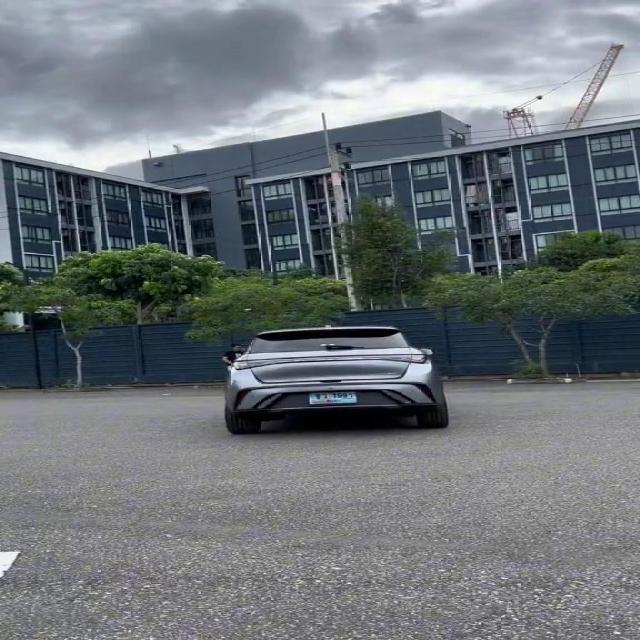Hatchback: (224, 326, 448, 434)
